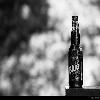beer: (67, 16, 86, 89)
